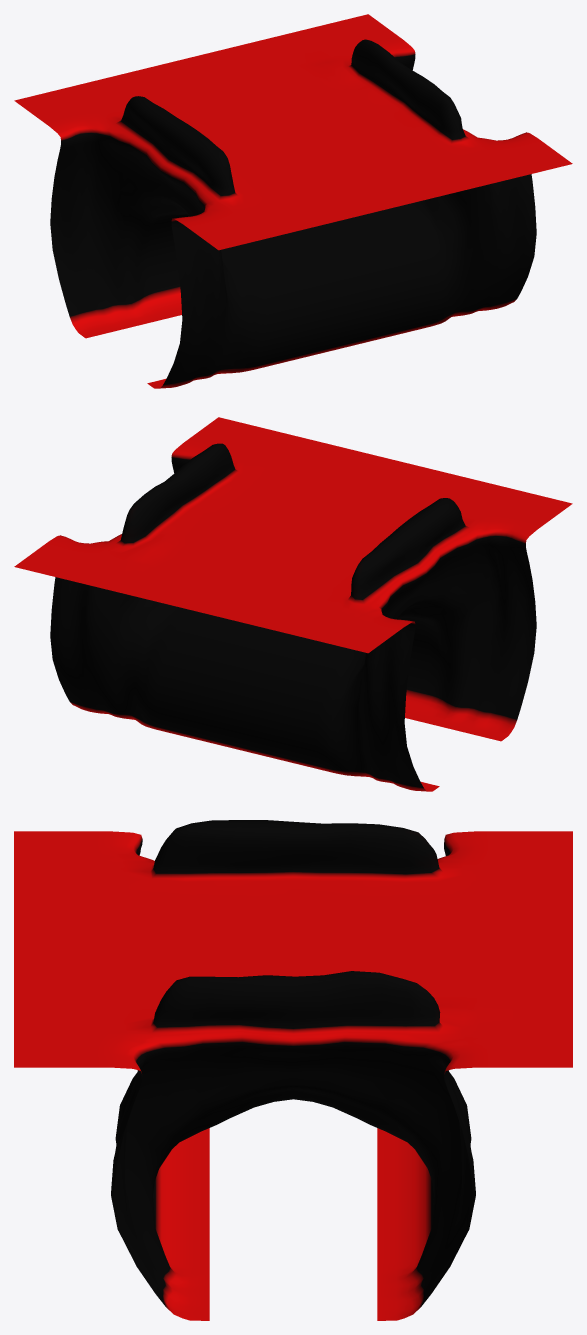
File: CrossingCliff03D 2M Foreground.fbx
The picture shows the model from 3 angles, top to bottom: view 1: azimuth 30°, elevation 25°; view 2: azimuth 150°, elevation 25°; view 3: azimuth 270°, elevation 25°; orthographic projection. The views are drawn at different scales.
Parts seen in each view (by area): view 1: CrossingCliff03D 2M Foreground; view 2: CrossingCliff03D 2M Foreground; view 3: CrossingCliff03D 2M Foreground.
Part boxes in pixels (x1,y1,x2,y2): CrossingCliff03D 2M Foreground: [14, 14, 572, 388]; CrossingCliff03D 2M Foreground: [14, 417, 572, 791]; CrossingCliff03D 2M Foreground: [14, 820, 572, 1320].
Bounding box in the file's own units: 4 × 2.41 × 4.
